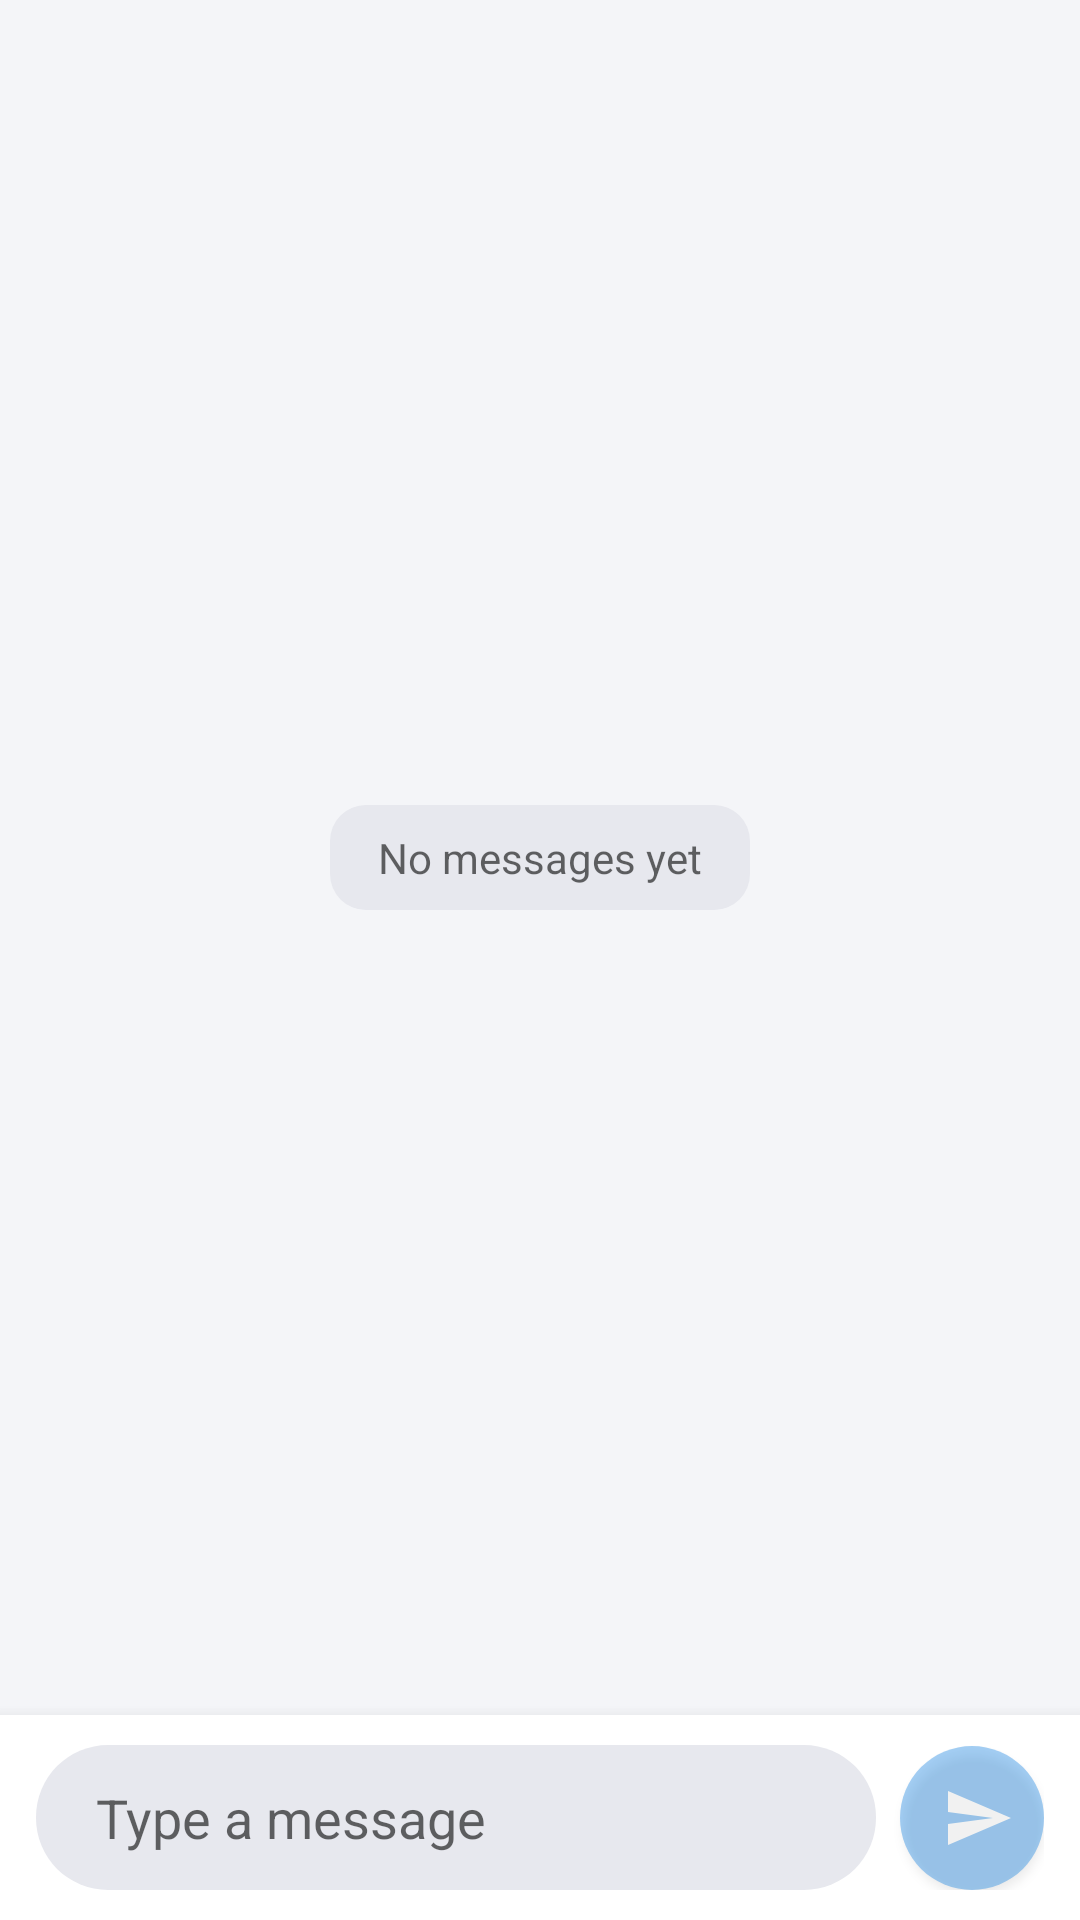

Icons on this 1080 × 1920 Android screen, each with its box as (x1, y1, x2, y2):
Send: (900, 1746, 1044, 1890)
